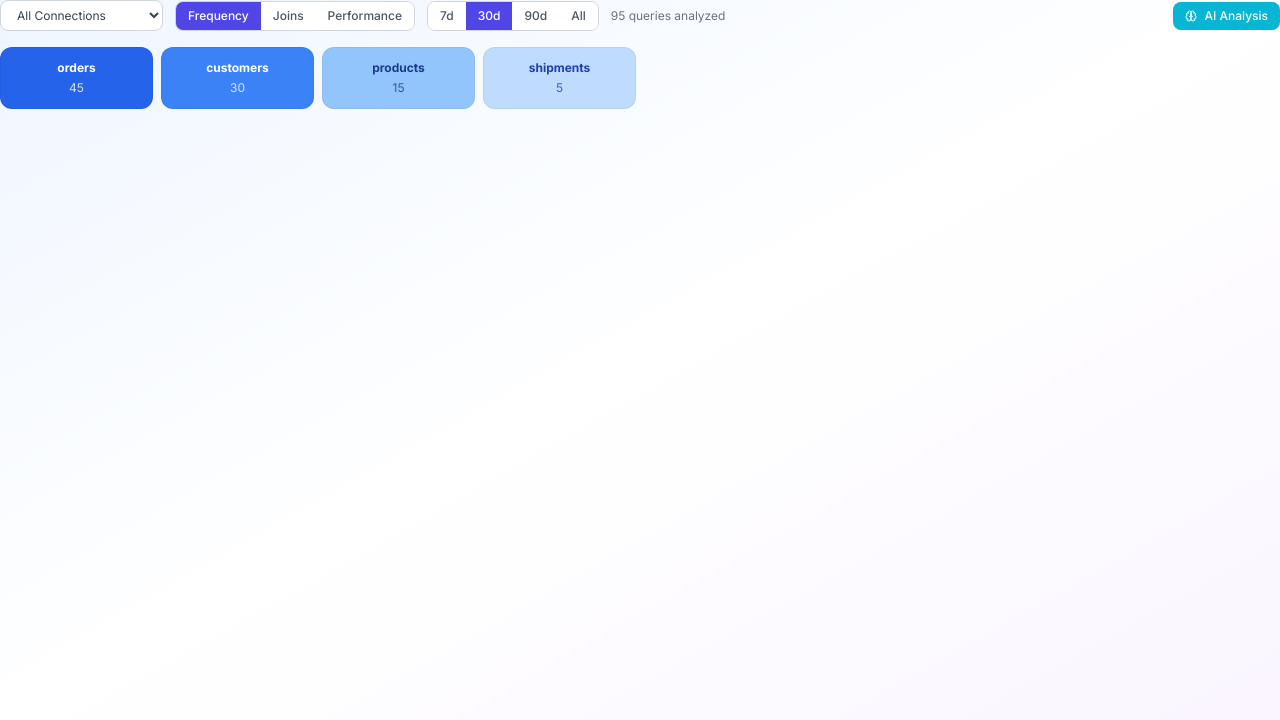
Scenario: QueryPatternHeatmap › shows bottlenecks in performance mode
The width and height of the screenshot is (1280, 720).
Expected: the text "orders" is shown, [57, 60, 96, 75]
Click the button "Performance": (365, 16) [316, 2, 414, 30]
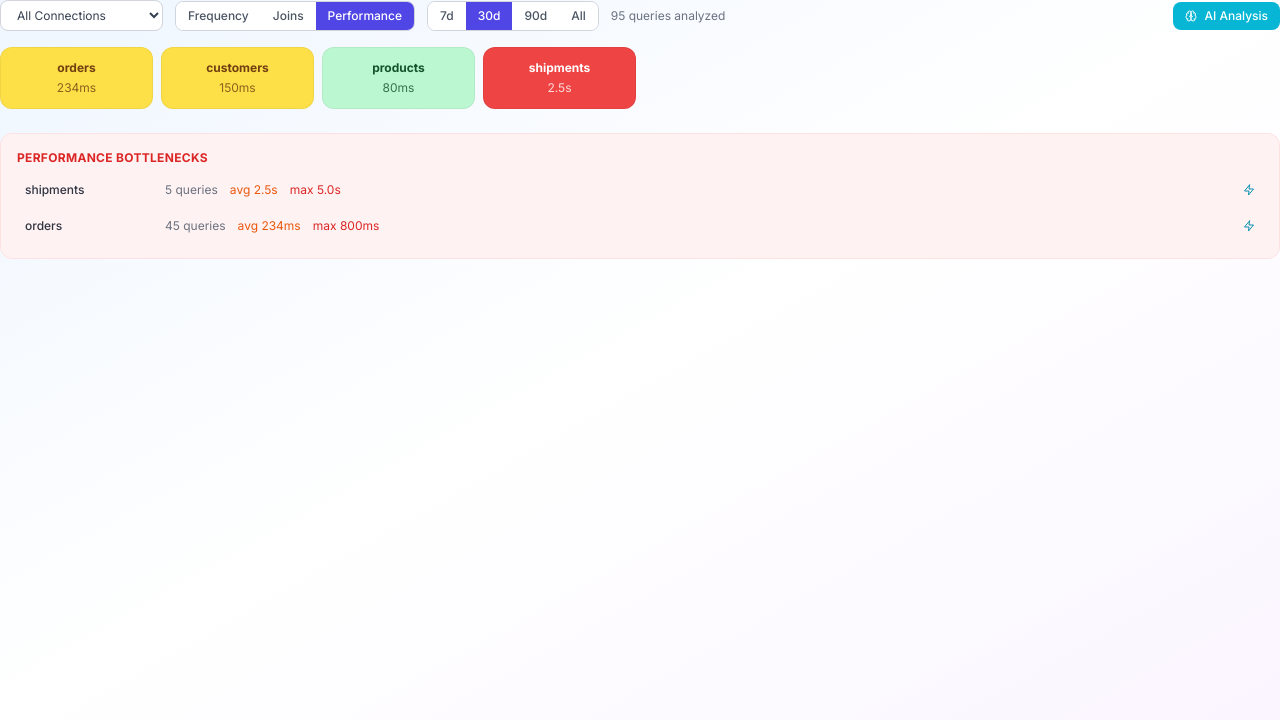
Now the text "Performance Bottlenecks" is shown, box [17, 150, 208, 165]
